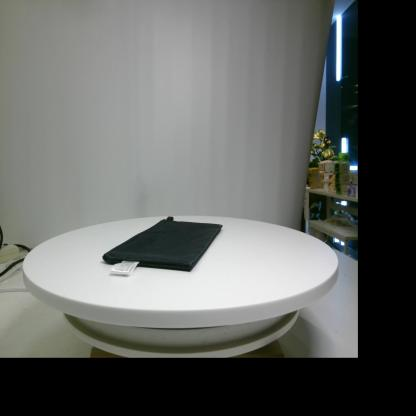Stationery: (102, 216, 223, 276)
